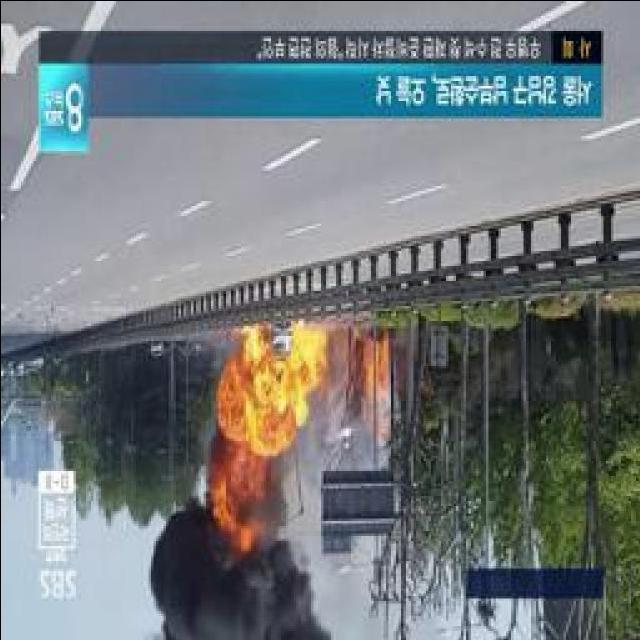Fire: (236, 332, 292, 451), (292, 324, 322, 401), (368, 332, 390, 388)
